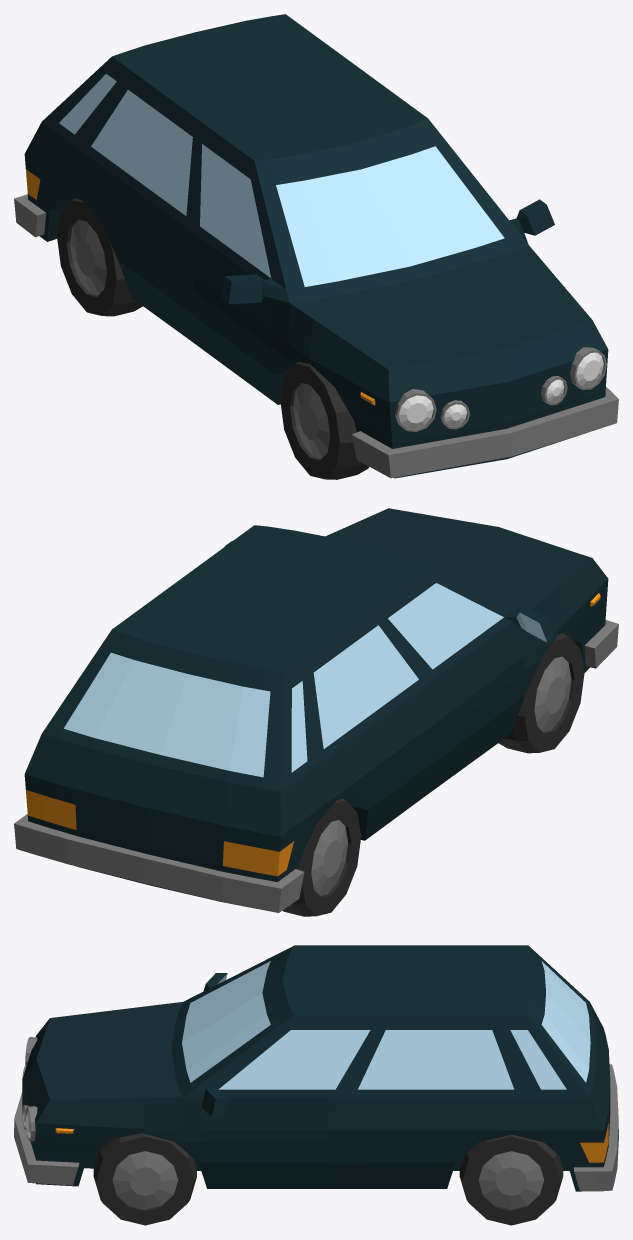
Rendered from car_grey.glb.
3 views of the same model, one above another, from view 1: azimuth 30°, elevation 25°; view 2: azimuth 150°, elevation 25°; view 3: azimuth 270°, elevation 25° (orthographic). The views are drawn at different scales.
Visible parts, largest first — view 1: 1377 Car; view 2: 1377 Car; view 3: 1377 Car.
Part boxes in pixels (<box>): 1377 Car: <box>14,14,618,479</box>; 1377 Car: <box>14,508,618,916</box>; 1377 Car: <box>14,945,618,1225</box>.
Size of the model in its own units: 45.5 by 32.33 by 89.11.
Materials: 1 (1 with a texture image).
